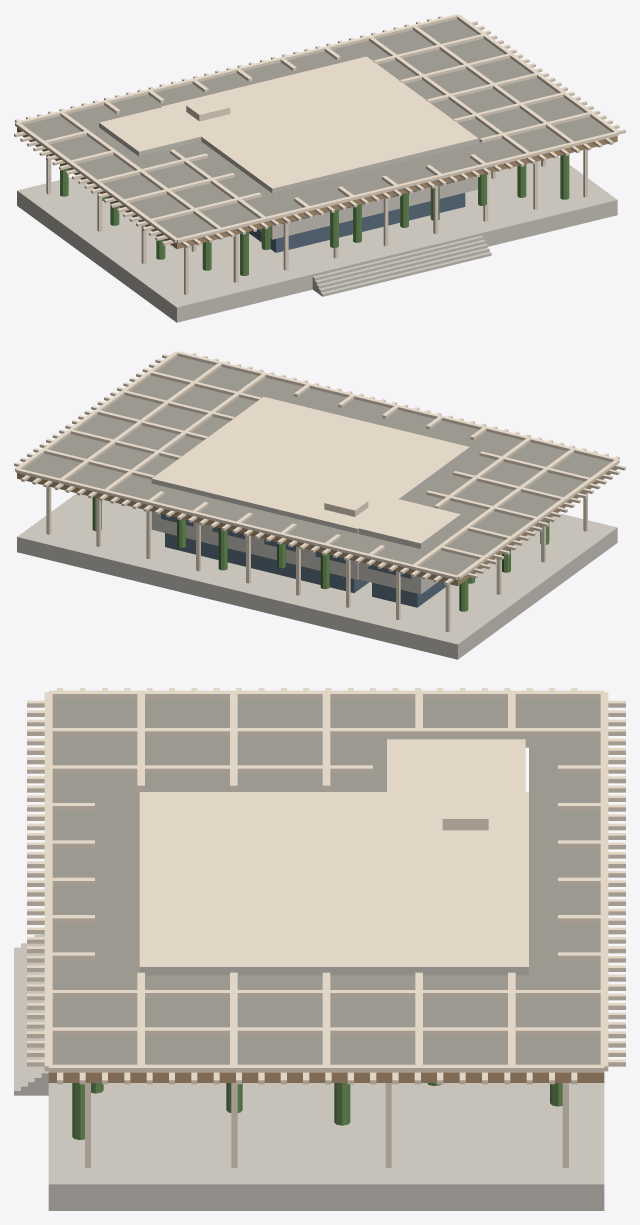
File: mia-perez-art-museum.glb
3 views of the same model, one above another, from view 1: azimuth 30°, elevation 25°; view 2: azimuth 150°, elevation 25°; view 3: azimuth 270°, elevation 25° (orthographic). The views are drawn at different scales.
Parts seen in each view (by area): view 1: Pérez Art Museum Miami; view 2: Pérez Art Museum Miami; view 3: Pérez Art Museum Miami.
Boxes of the visible parts, box(x1,y1,x2,y2) form: Pérez Art Museum Miami: box(14, 14, 625, 322); Pérez Art Museum Miami: box(14, 351, 625, 659); Pérez Art Museum Miami: box(14, 688, 625, 1210).
Size of the model in its own units: 120 by 22.8 by 79.4.
